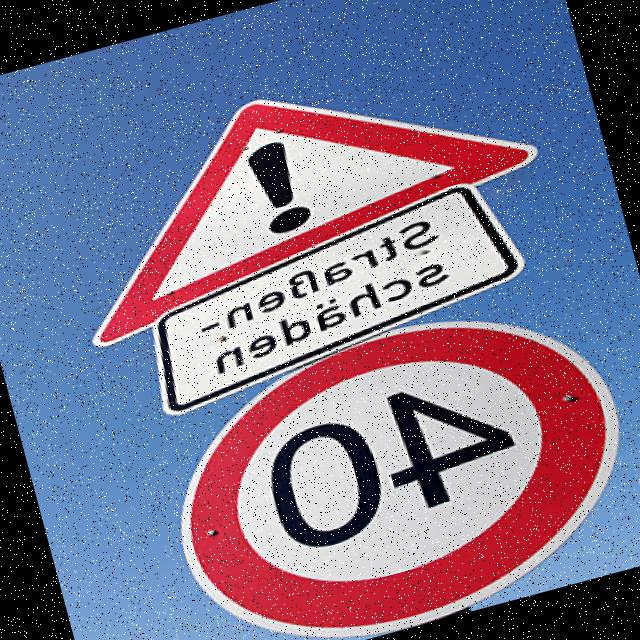warning: (35, 0, 574, 358)
